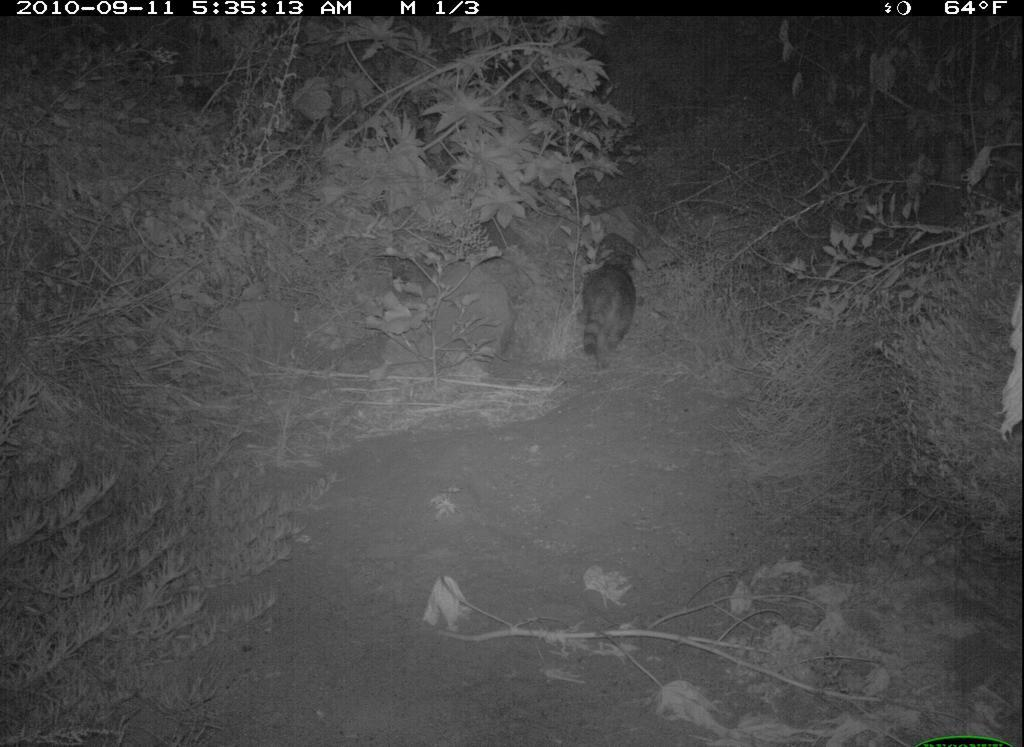raccoon: (575, 255, 647, 378)
